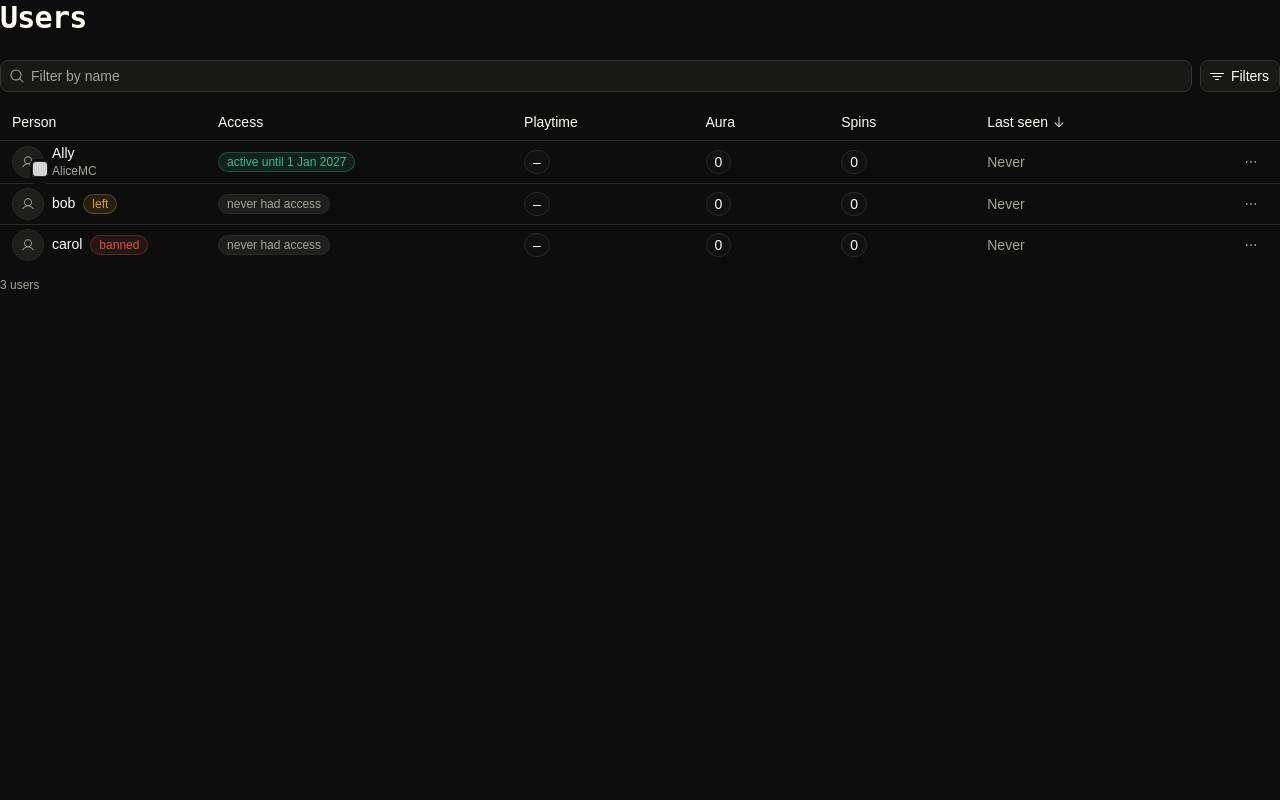
AccessPage - access changes are asked of the bot › refuses a grant longer than 365 days before it is sent
Step 1. Click the button named "Actions for" → coordinates (1251, 162), box 1234,145 -> 1268,179
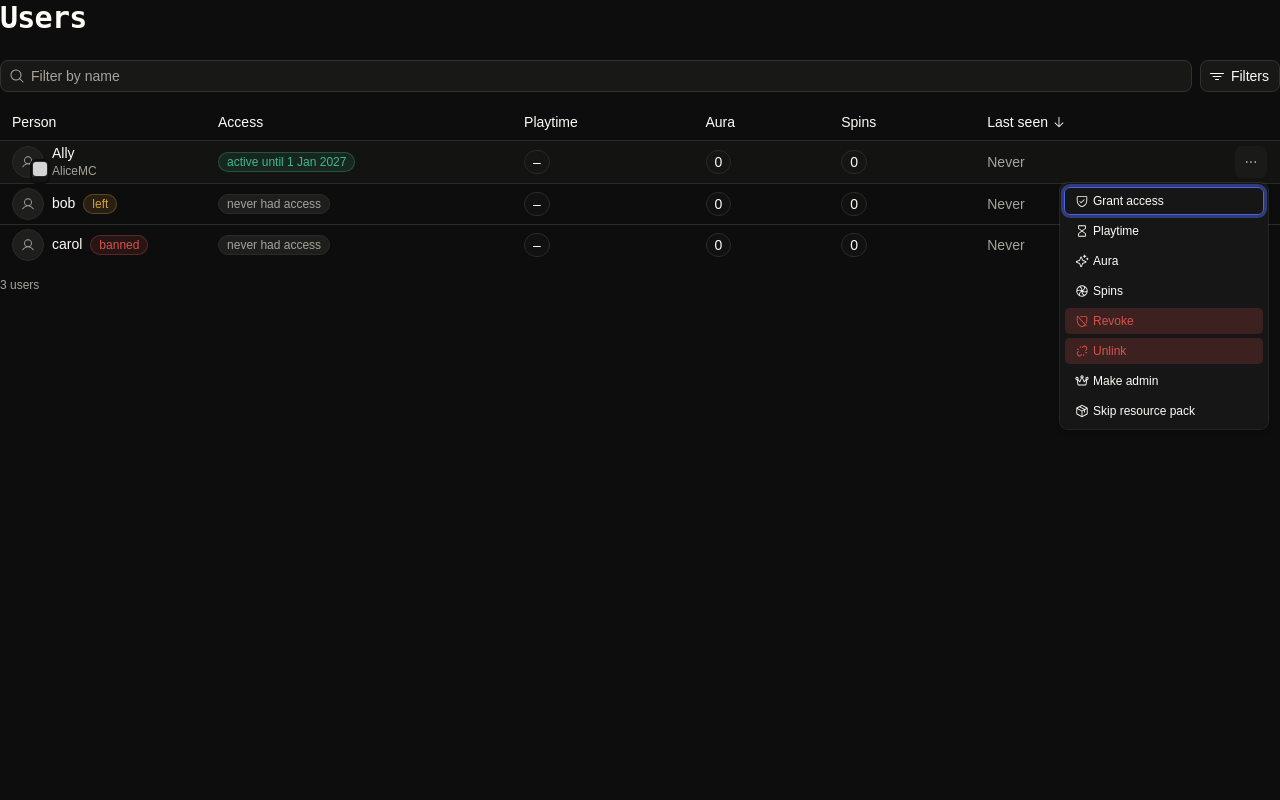
Step 2. Click the button "Grant access" → coordinates (1164, 201), box 1064,187 -> 1264,215
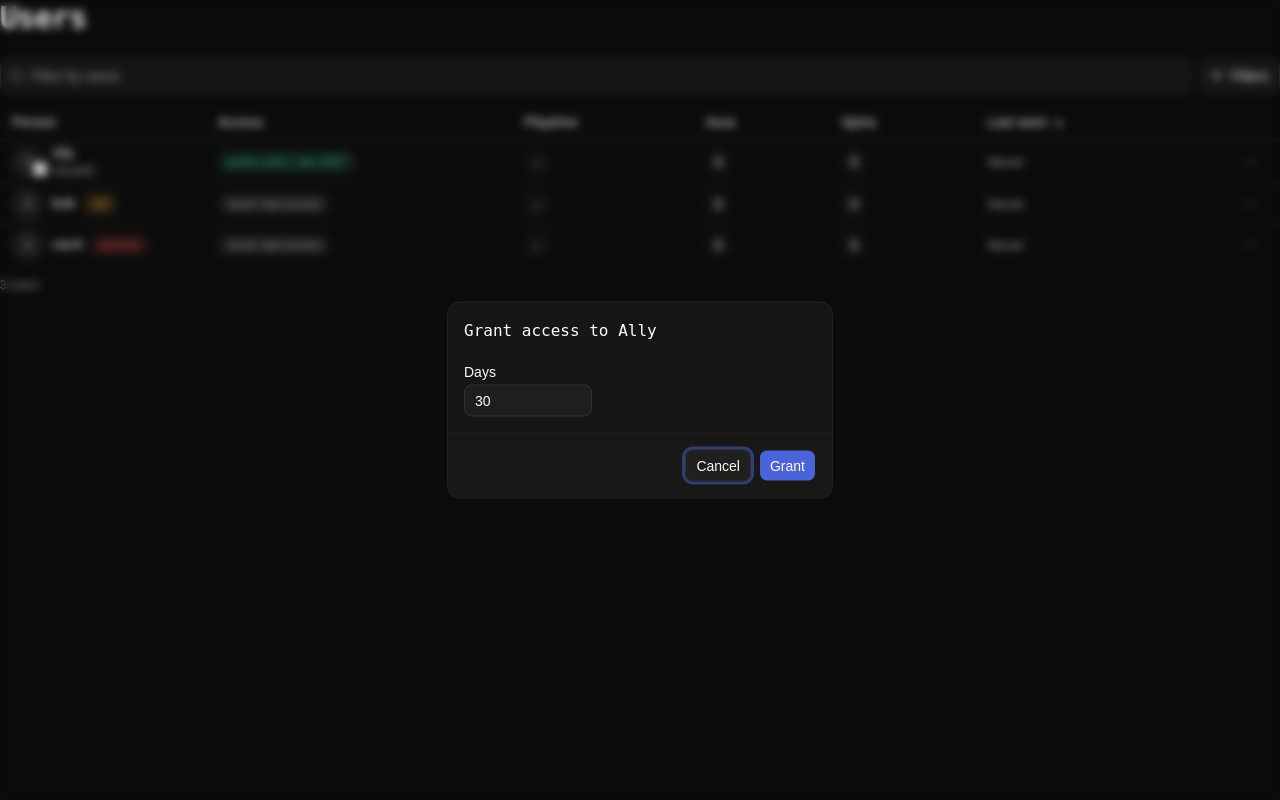
Step 3. Replace the text in the number field labelled "Days" with "366" → coordinates (528, 400), box 464,384 -> 592,416
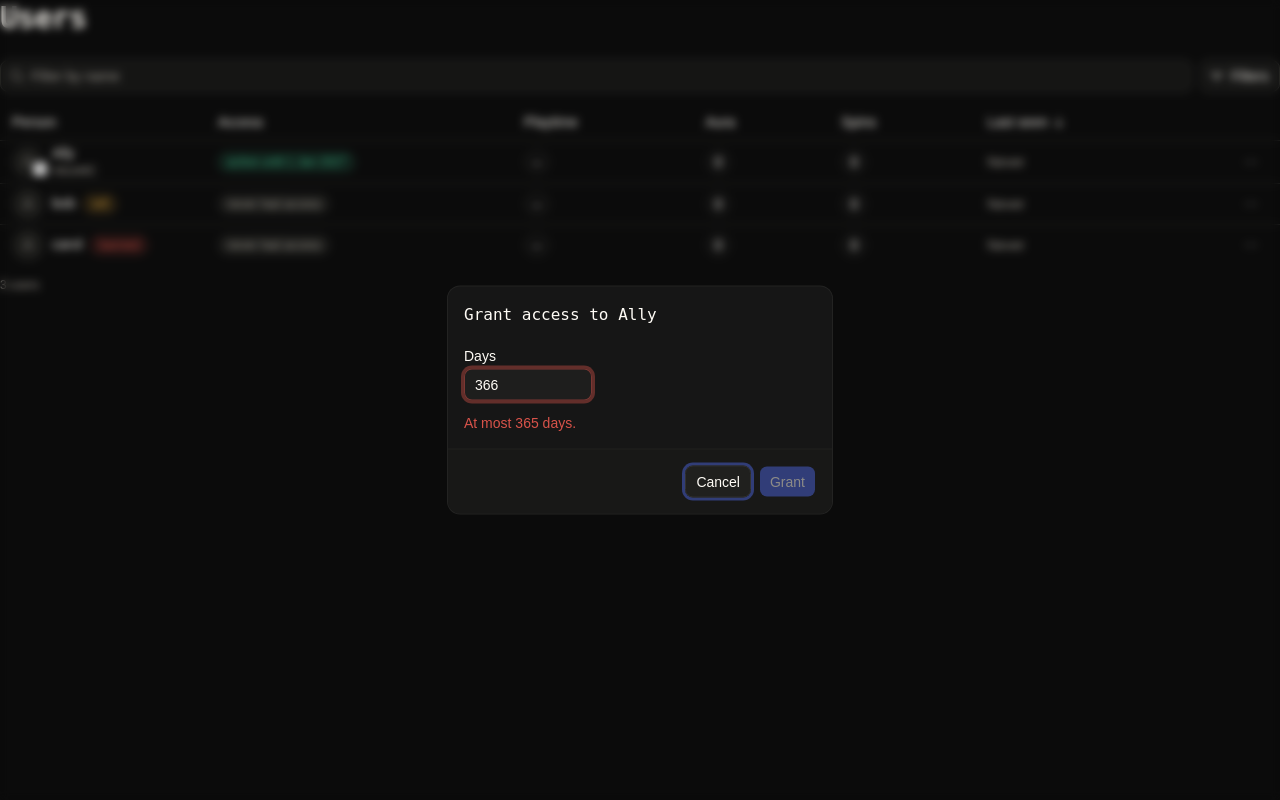
Result: the button "Grant" is disabled at 759,466 -> 816,498
Step 4. Replace the text in the number field labelled "Days" with "365" → coordinates (528, 384), box 464,368 -> 592,400
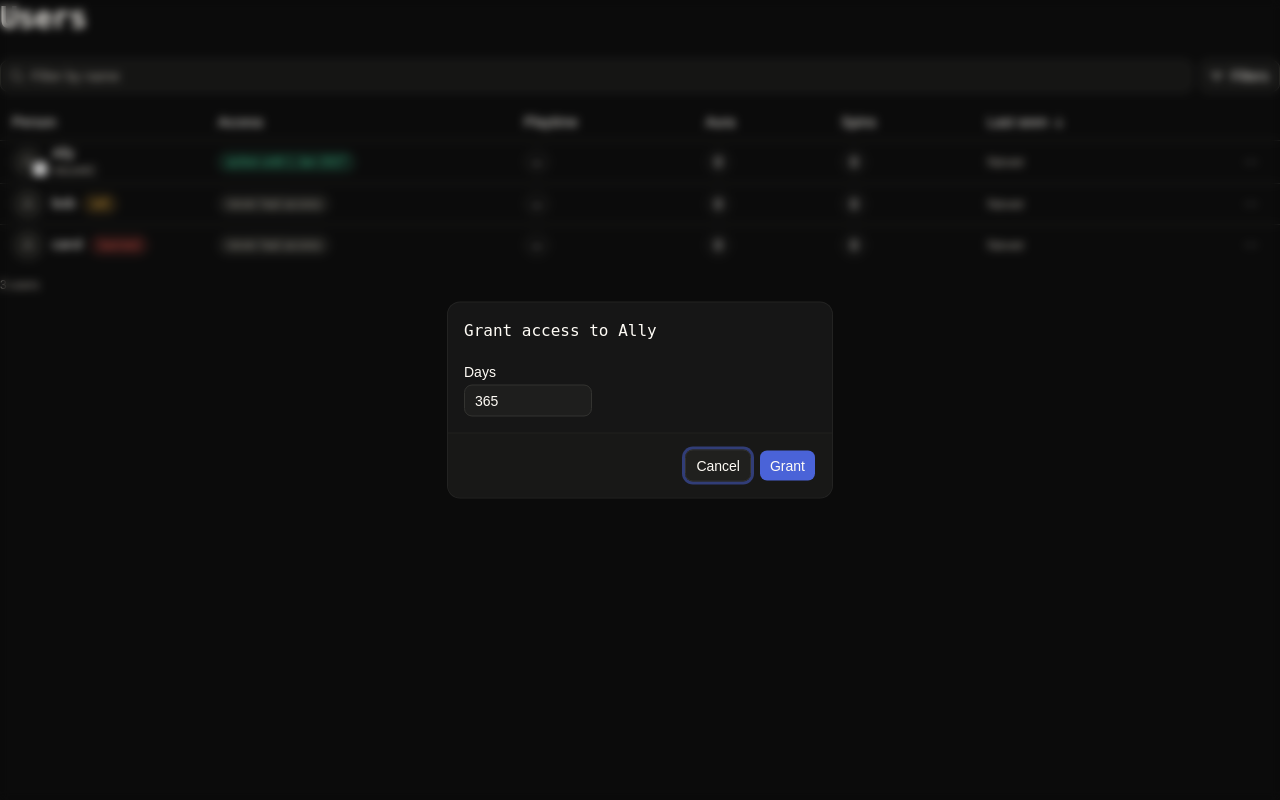
Result: the button "Grant" is enabled at 759,450 -> 816,482
